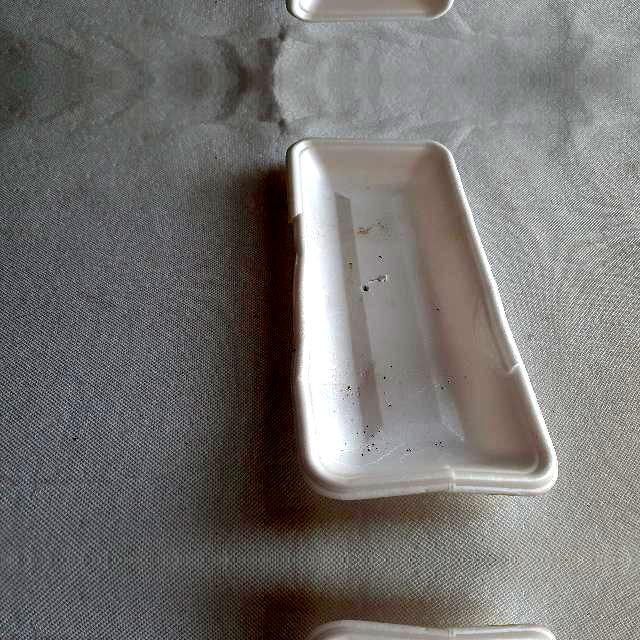Styrofoam: (284, 140, 560, 500), (287, 138, 559, 500)
